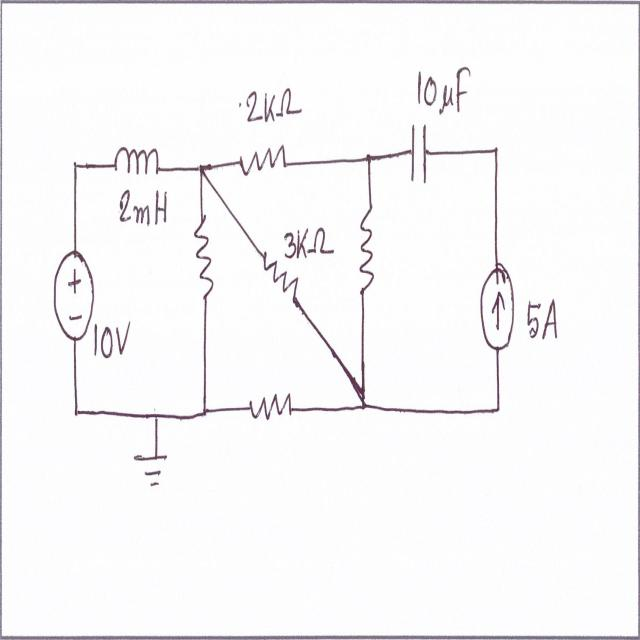capacitor: (408, 103, 429, 189)
current_source: (478, 253, 519, 354)
ground: (132, 450, 179, 496)
inductor: (109, 141, 162, 184)
resistor: (231, 128, 292, 182), (244, 370, 298, 422), (193, 210, 217, 312), (258, 251, 298, 312), (356, 199, 378, 304)
voltage_source: (48, 245, 96, 344)
